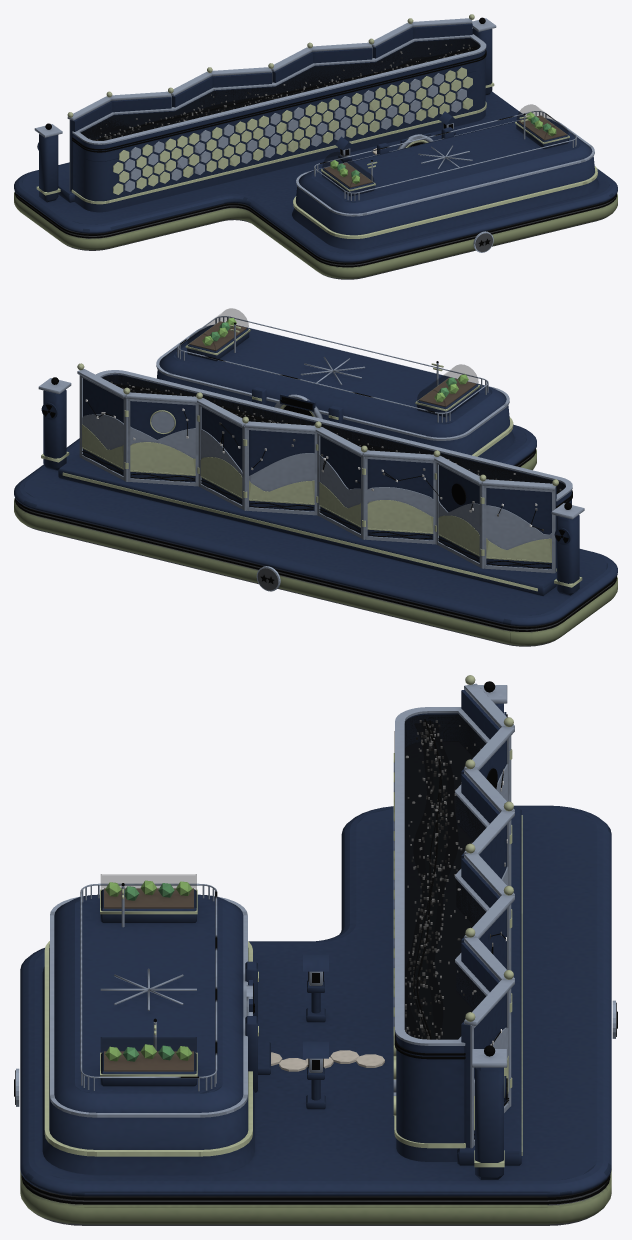
File: SM_Evo_RadiationWall.fbx
3 renders of one model, top to bottom at view 1: azimuth 30°, elevation 25°; view 2: azimuth 150°, elevation 25°; view 3: azimuth 270°, elevation 25°, orthographic. The views are drawn at different scales.
Visible parts, largest first — view 1: SMN_Evo_RadiationWall, Emblem_Fx_RadiationWall; view 2: SMN_Evo_RadiationWall, Emblem_Fx_RadiationWall; view 3: SMN_Evo_RadiationWall, Emblem_Fx_RadiationWall.
Part boxes in pixels (x1,y1,x2,y2): SMN_Evo_RadiationWall: (14,14,617,279); Emblem_Fx_RadiationWall: (15,17,616,267); SMN_Evo_RadiationWall: (14,316,617,646); Emblem_Fx_RadiationWall: (15,308,616,631); SMN_Evo_RadiationWall: (15,675,616,1225); Emblem_Fx_RadiationWall: (14,681,617,1204).
Bounding box in the file's own units: 2.84 × 0.676 × 1.88.
